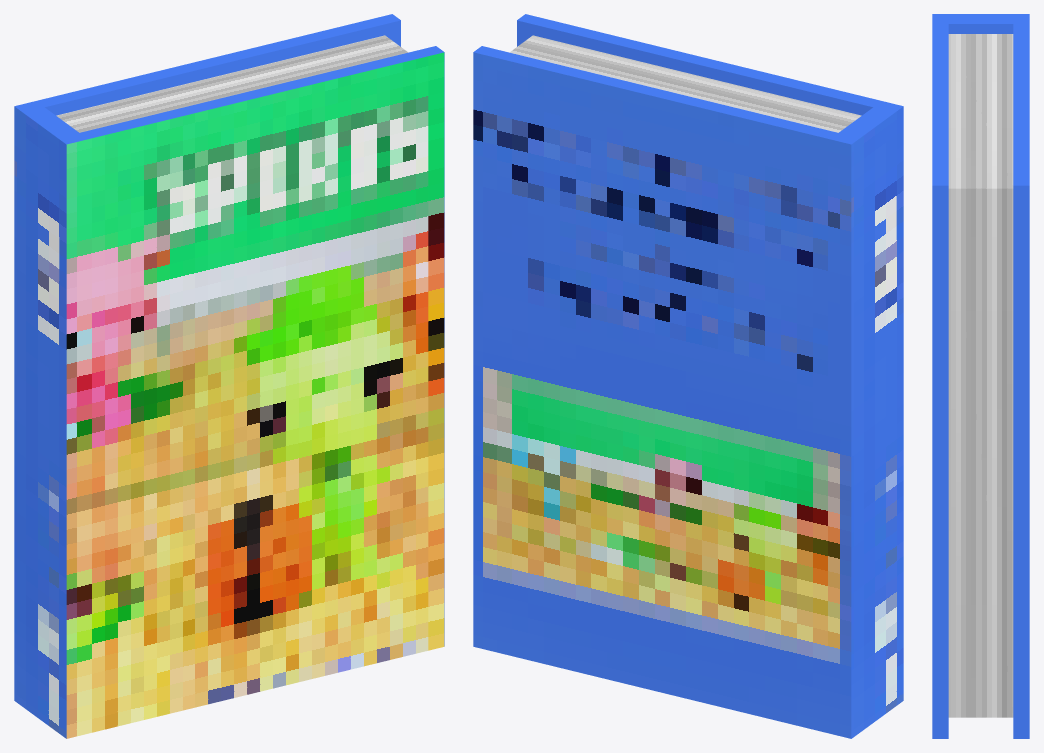
The model's file is book_blue_02.glb.
3 views of the same model, side by side, from view 1: azimuth 30°, elevation 25°; view 2: azimuth 150°, elevation 25°; view 3: azimuth 270°, elevation 25° (orthographic). The views are drawn at different scales.
Parts seen in each view (by area): view 1: Book_Blue_2; view 2: Book_Blue_2; view 3: Book_Blue_2.
Part boxes in pixels (<box>): Book_Blue_2: <box>14,14,444,738</box>; Book_Blue_2: <box>473,14,903,738</box>; Book_Blue_2: <box>932,14,1029,738</box>.
Bounding box in the file's own units: 0.1592 × 0.2391 × 0.0381.
1 material, 1 textured.
